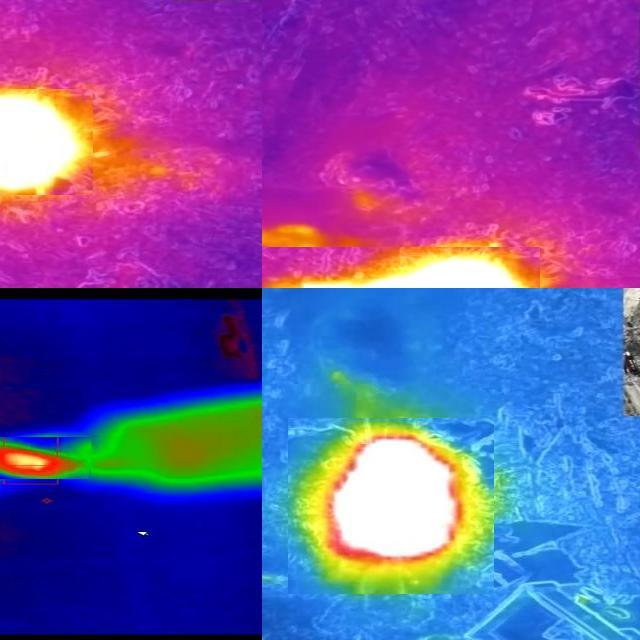fire: (289, 418, 495, 594), (263, 247, 541, 289), (1, 89, 94, 195), (1, 437, 92, 479)
